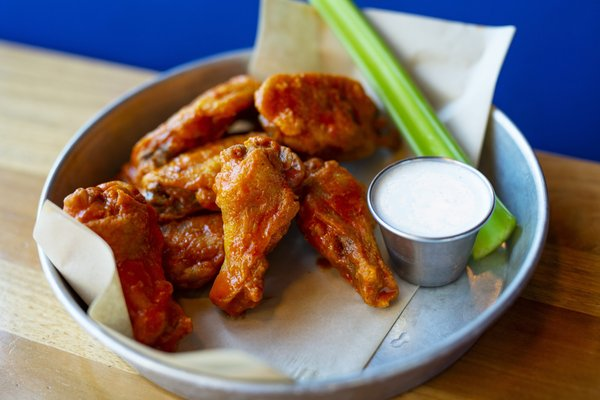soup: (295, 158, 401, 308)
